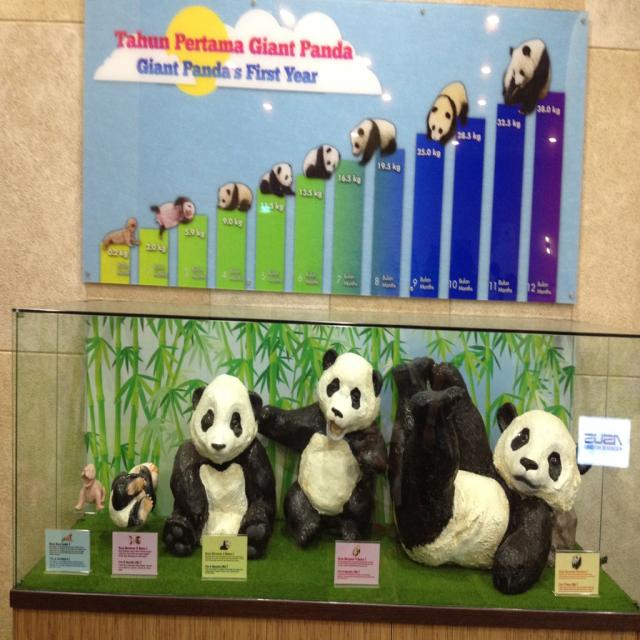panda: (388, 355, 590, 597), (258, 345, 387, 549), (164, 372, 280, 557), (501, 39, 551, 120), (108, 461, 159, 527), (422, 81, 469, 146), (346, 114, 400, 167), (150, 195, 197, 236), (258, 158, 295, 198), (215, 181, 252, 215), (302, 146, 338, 178)
